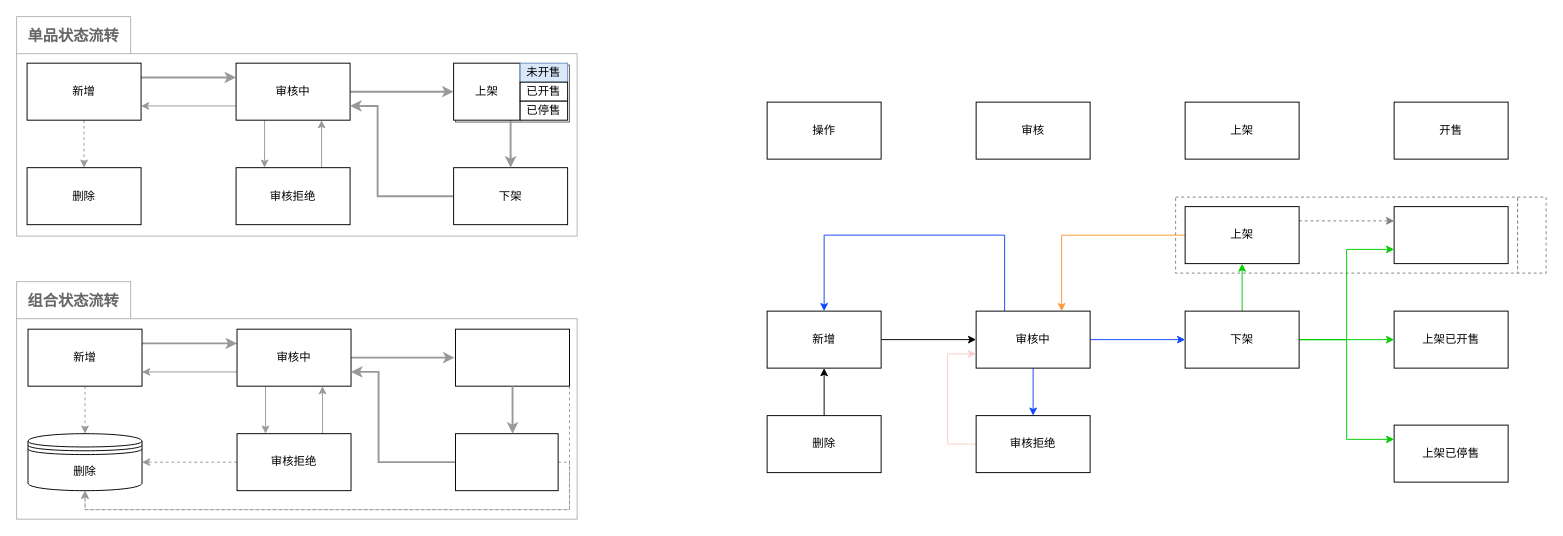
The diagram is 1563 pixels wide and 536 high, and some of its shapes have lost their labels. Each missing label, with the centre of its shape:
上架未开售: (x=1450, y=235)
已暂停: (x=506, y=462)
程 序 绑 定: (x=1531, y=234)
进行中: (x=512, y=357)
